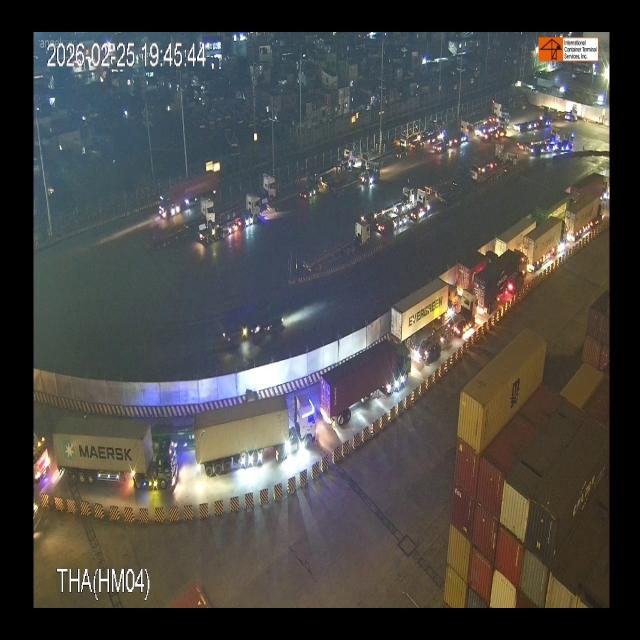truck: (193, 388, 319, 466), (55, 414, 179, 490), (318, 333, 414, 407), (393, 266, 461, 335), (152, 192, 212, 255), (475, 250, 531, 313), (524, 216, 566, 272), (494, 210, 532, 258), (568, 190, 606, 235), (224, 188, 260, 230), (530, 191, 576, 221), (459, 250, 500, 281), (259, 163, 281, 205)
